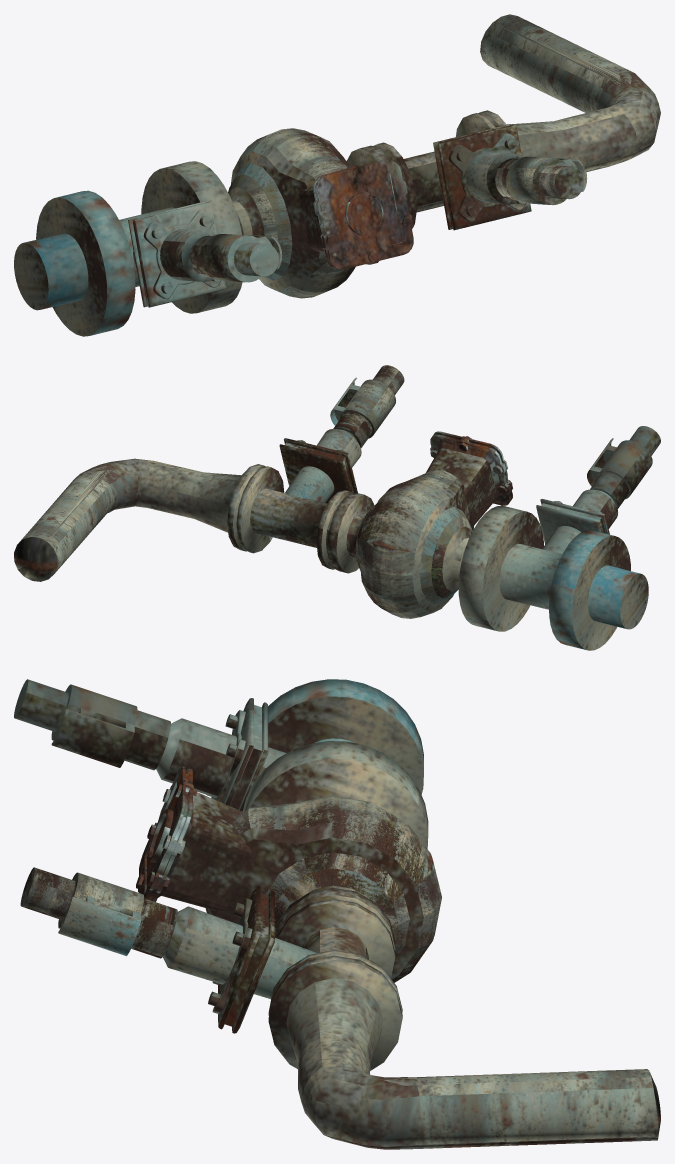
File: OLD_BLUE-ISH.glb
The picture shows the model from 3 angles, top to bottom: view 1: azimuth 30°, elevation 25°; view 2: azimuth 150°, elevation 25°; view 3: azimuth 270°, elevation 25°; orthographic projection. The views are drawn at different scales.
Visible parts, largest first — view 1: OLD BLUE-ISH; view 2: OLD BLUE-ISH; view 3: OLD BLUE-ISH.
Part boxes in pixels (left/top/right/bottom): OLD BLUE-ISH: left=14, top=14, right=660, bottom=336; OLD BLUE-ISH: left=14, top=365, right=660, bottom=650; OLD BLUE-ISH: left=14, top=679, right=660, bottom=1149.
Size of the model in its own units: 13.73 by 3.56 by 9.48.
1 material, 1 textured.
